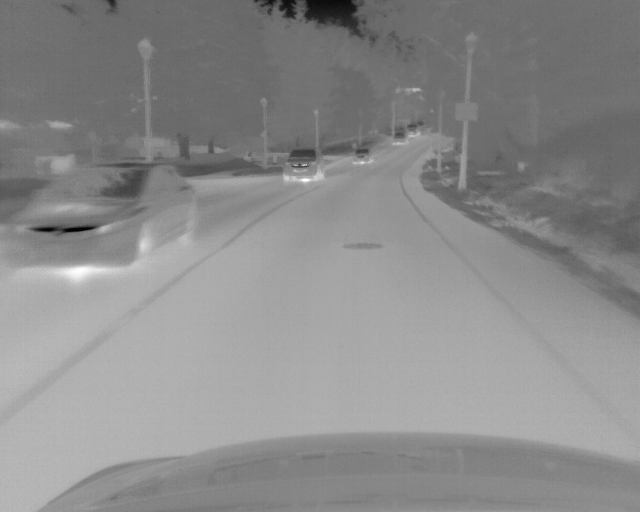car: (4, 160, 202, 272), (282, 148, 326, 184), (352, 147, 372, 166), (390, 131, 408, 146), (404, 123, 419, 139)
